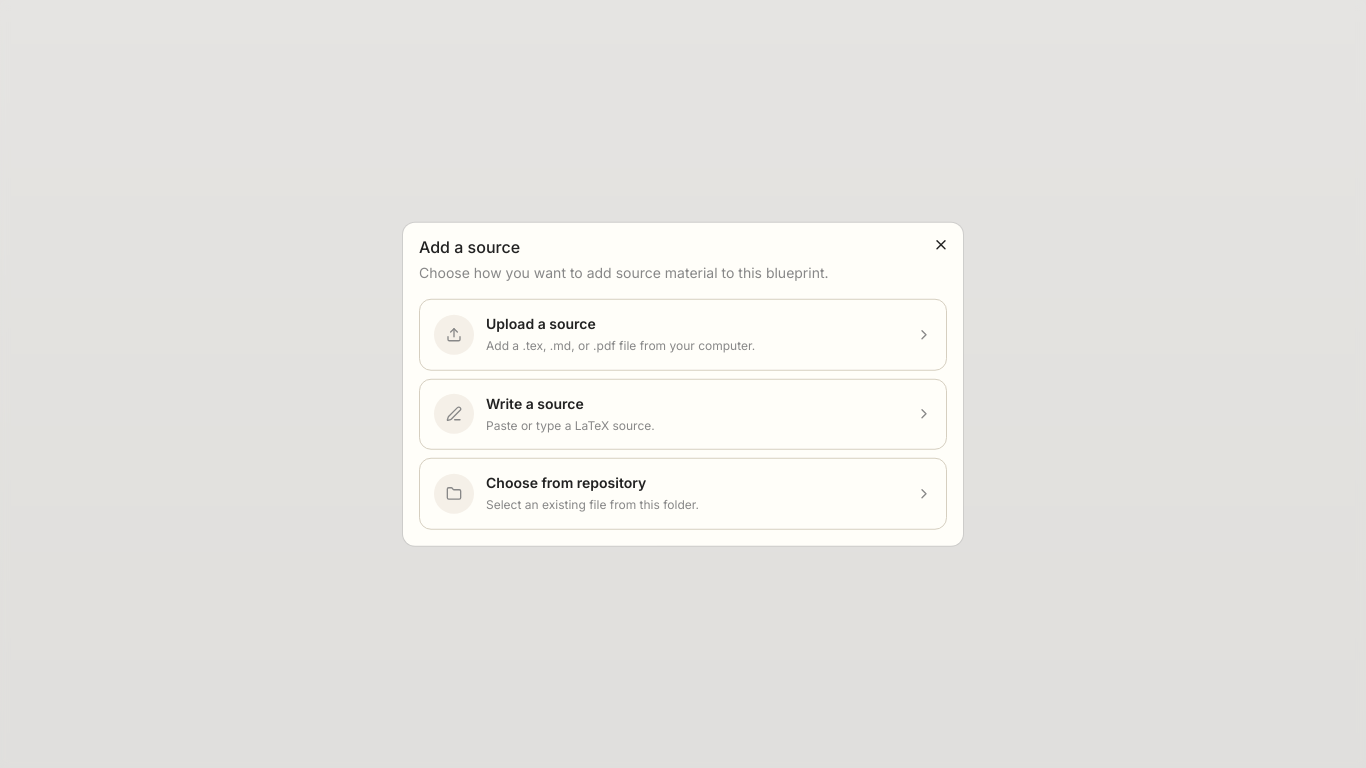
Test case: AddSourceDialog › limits repository imports to managed source formats
Click the button "Choose from repository": (454,494) [419,458,947,529]
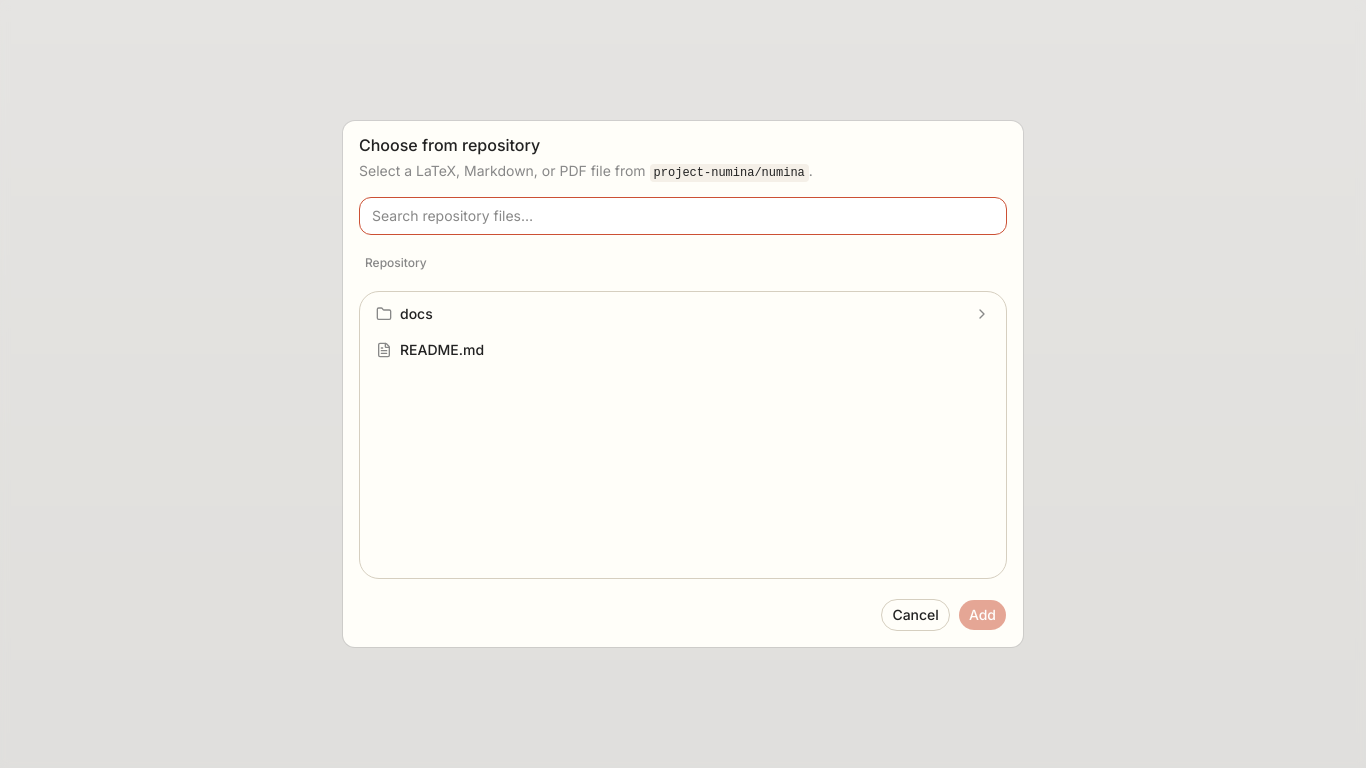
Expected: the text "Select a LaTeX, Markdown, or PDF file from" is shown, [359,162,650,179]
Expected: the button "README.md" is shown, [364,332,1002,368]
Expected: the button "docs" is shown, [364,296,1002,332]
